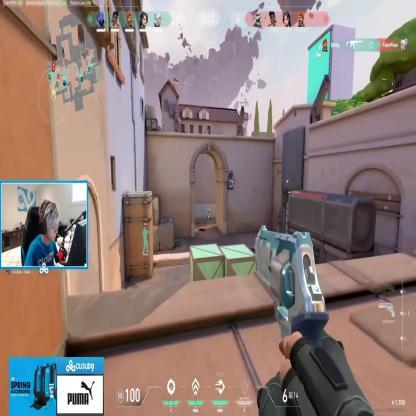enemy: (207, 206, 210, 222)
enemy_head: (207, 206, 209, 210)
